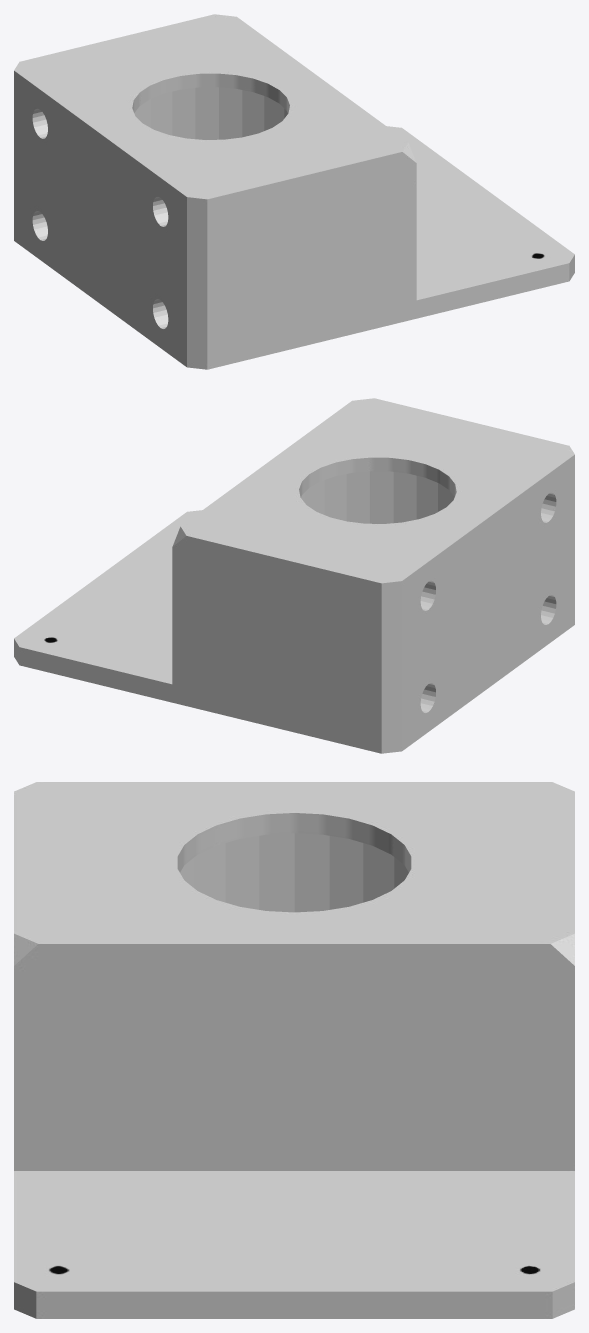
The model's file is Bearing_box.fbx.
The picture shows the model from 3 angles, top to bottom: view 1: azimuth 30°, elevation 25°; view 2: azimuth 150°, elevation 25°; view 3: azimuth 270°, elevation 25°; orthographic projection. The views are drawn at different scales.
Parts seen in each view (by area): view 1: Bearing_Box; view 2: Bearing_Box; view 3: Bearing_Box.
Boxes of the visible parts, x1=… form: Bearing_Box: x1=14, y1=14, x2=574, y2=369; Bearing_Box: x1=14, y1=398, x2=574, y2=753; Bearing_Box: x1=14, y1=782, x2=574, y2=1318.
Size of the model in its own units: 59.6 by 25 by 50.
Materials: 1 (1 with a texture image).
